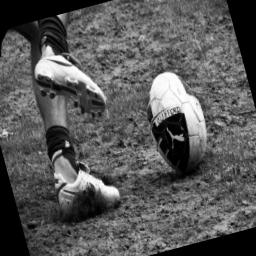football: (138, 66, 218, 180)
